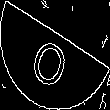O_NE: (31, 22, 79, 88)
